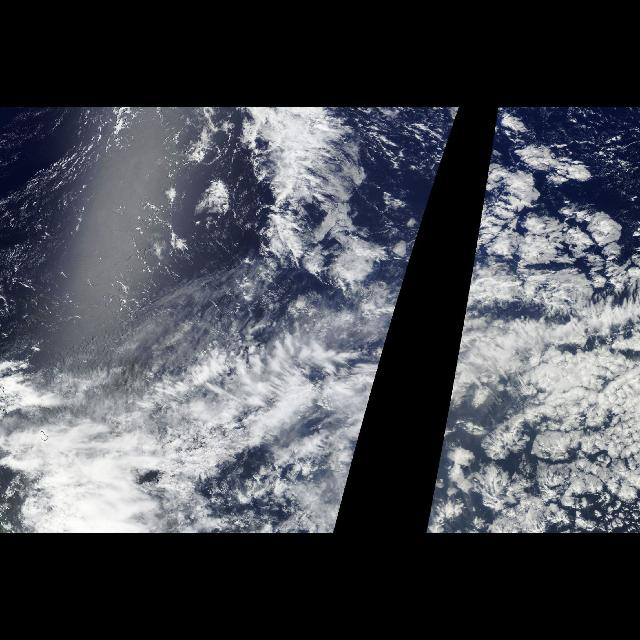Fish: (117, 326, 391, 474), (234, 120, 386, 290)
Flower: (461, 113, 639, 331), (469, 362, 639, 534), (418, 112, 458, 236)
Sugar: (2, 110, 158, 302)
